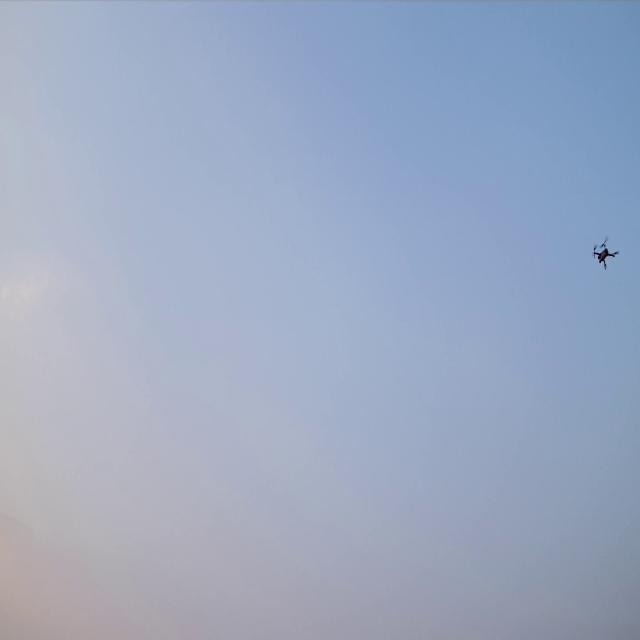UAV: (591, 234, 622, 273)
